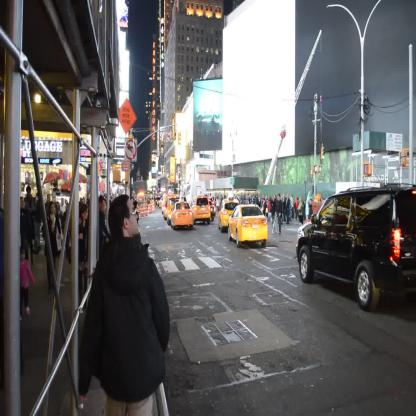car: (296, 186, 416, 312), (228, 204, 268, 246), (219, 200, 239, 235), (171, 202, 193, 231), (191, 197, 211, 227)
motorcycle: (272, 213, 280, 234)
